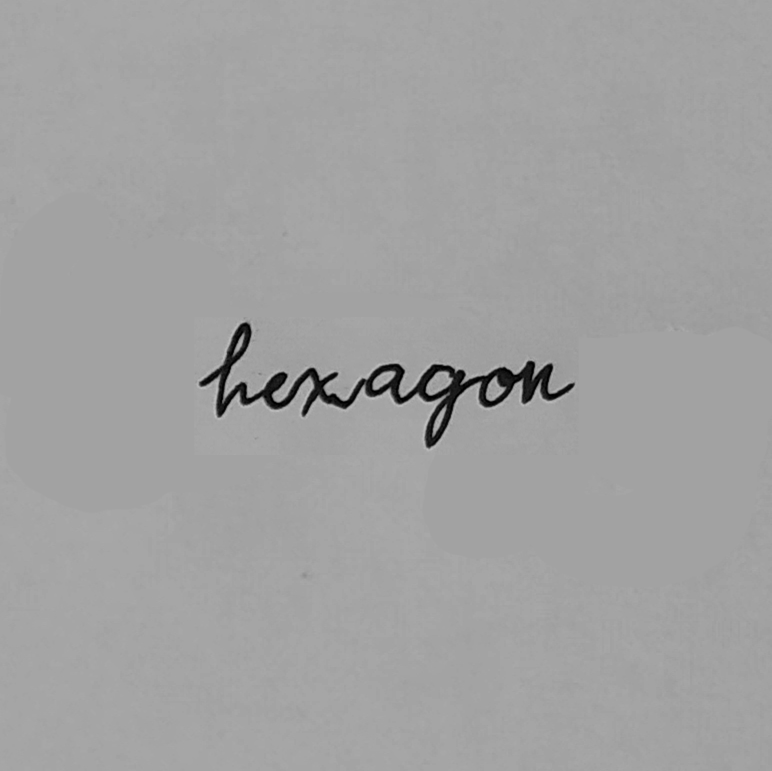a: (359, 359, 410, 407)
e: (259, 369, 291, 415)
g: (413, 358, 471, 453)
h: (212, 319, 255, 420)
n: (517, 357, 559, 408)
o: (474, 363, 517, 411)
x: (297, 363, 343, 422)
